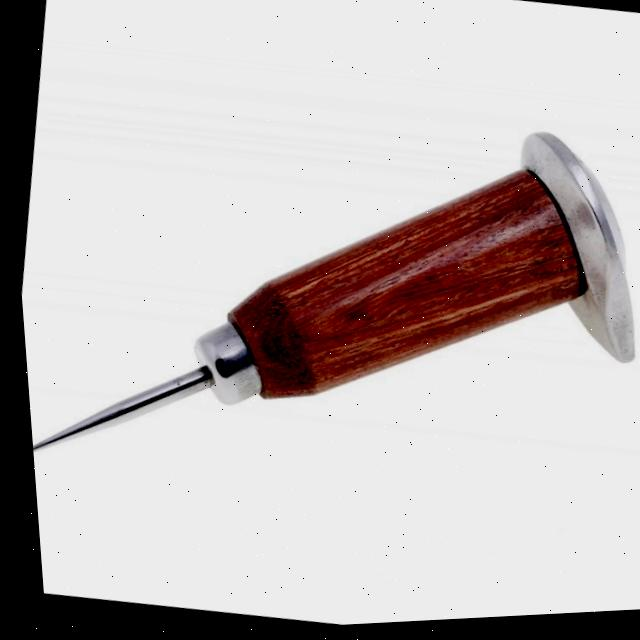ice pick: (5, 55, 640, 553)
